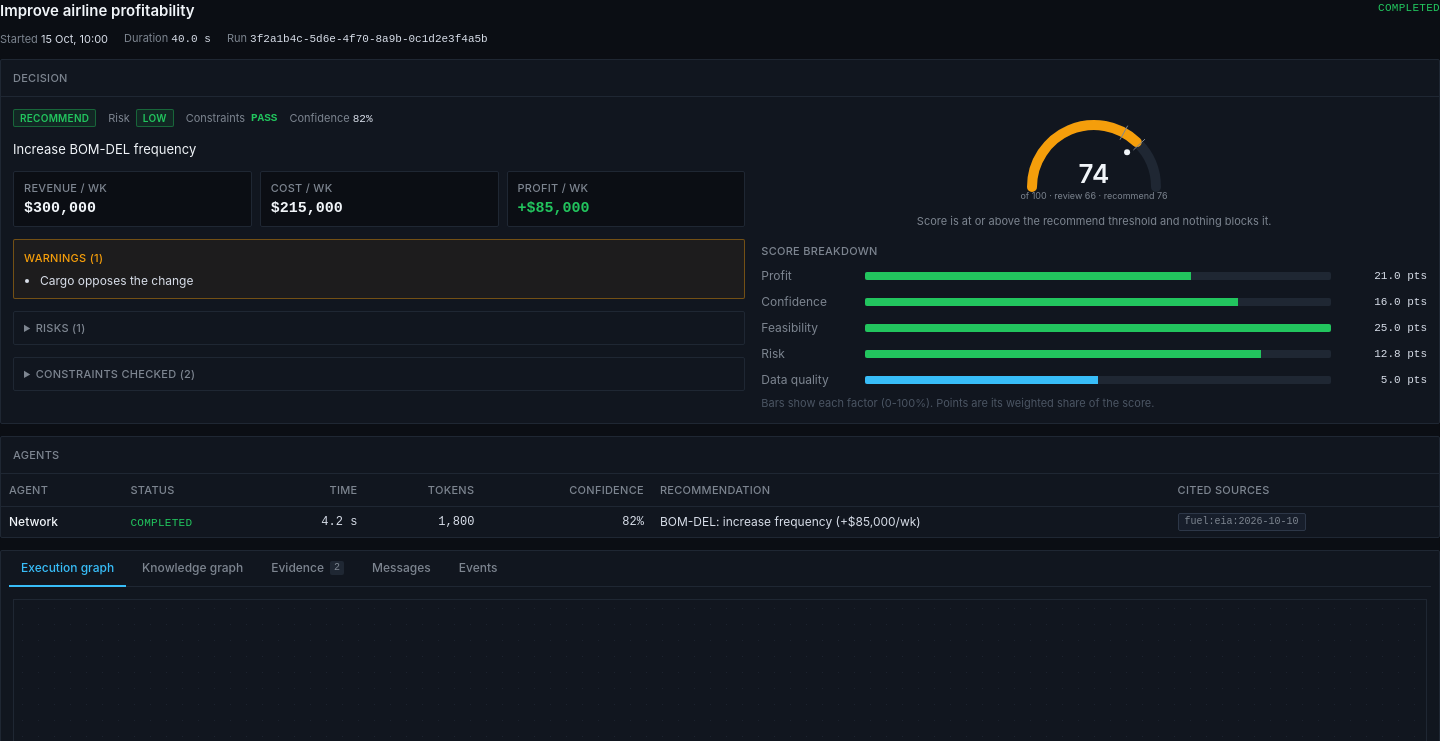
RunPage › shows evidence, messages and events in their tabs
The width and height of the screenshot is (1440, 741).
Expected: the element with test id "decision-panel" is shown, 0,59 -> 1439,424
Step 1. Click the tab "Evidence 2" → (308, 569), box 259,551 -> 356,587
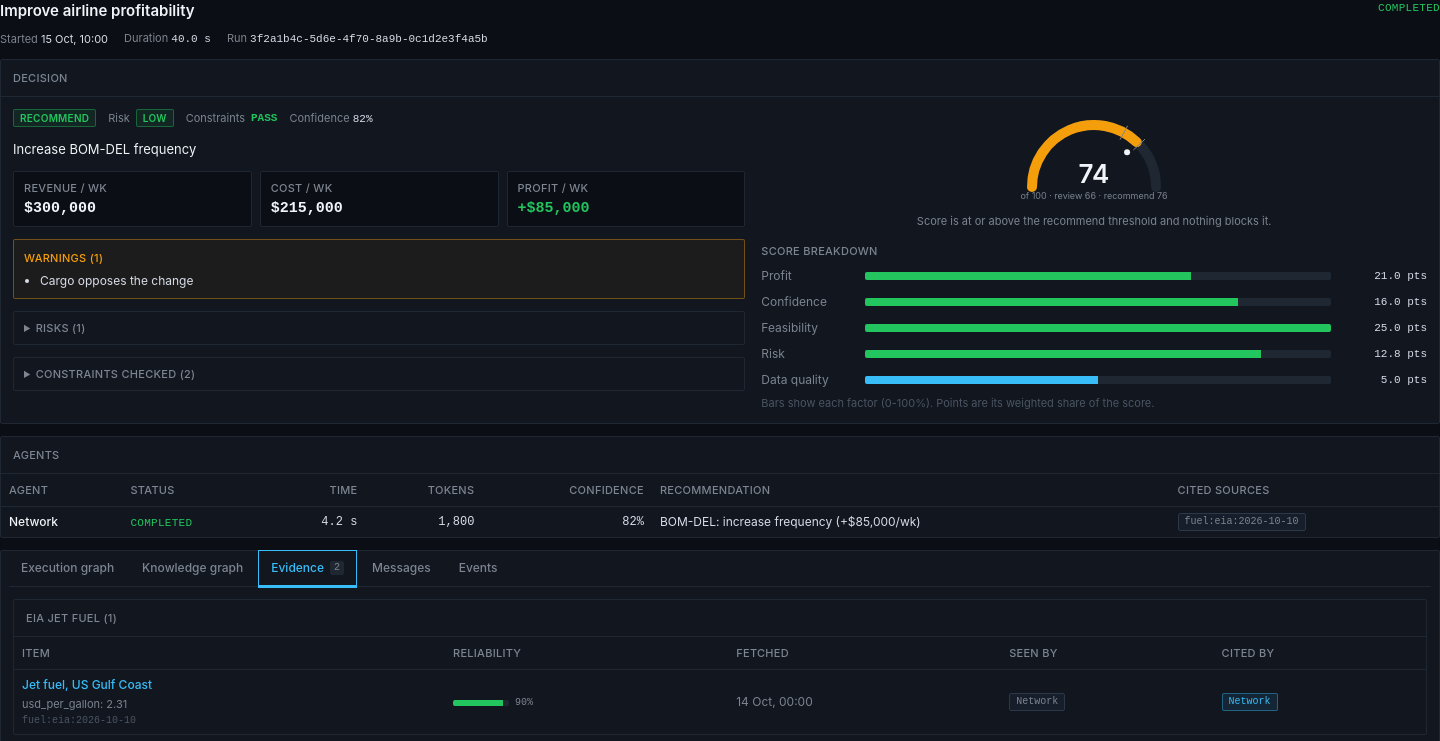
Expected: the element with test id "evidence-group-eia_jet_fuel" is shown, 13,599 -> 1427,735
Step 2. Click the tab "Messages" → (401, 569), box 360,551 -> 443,587
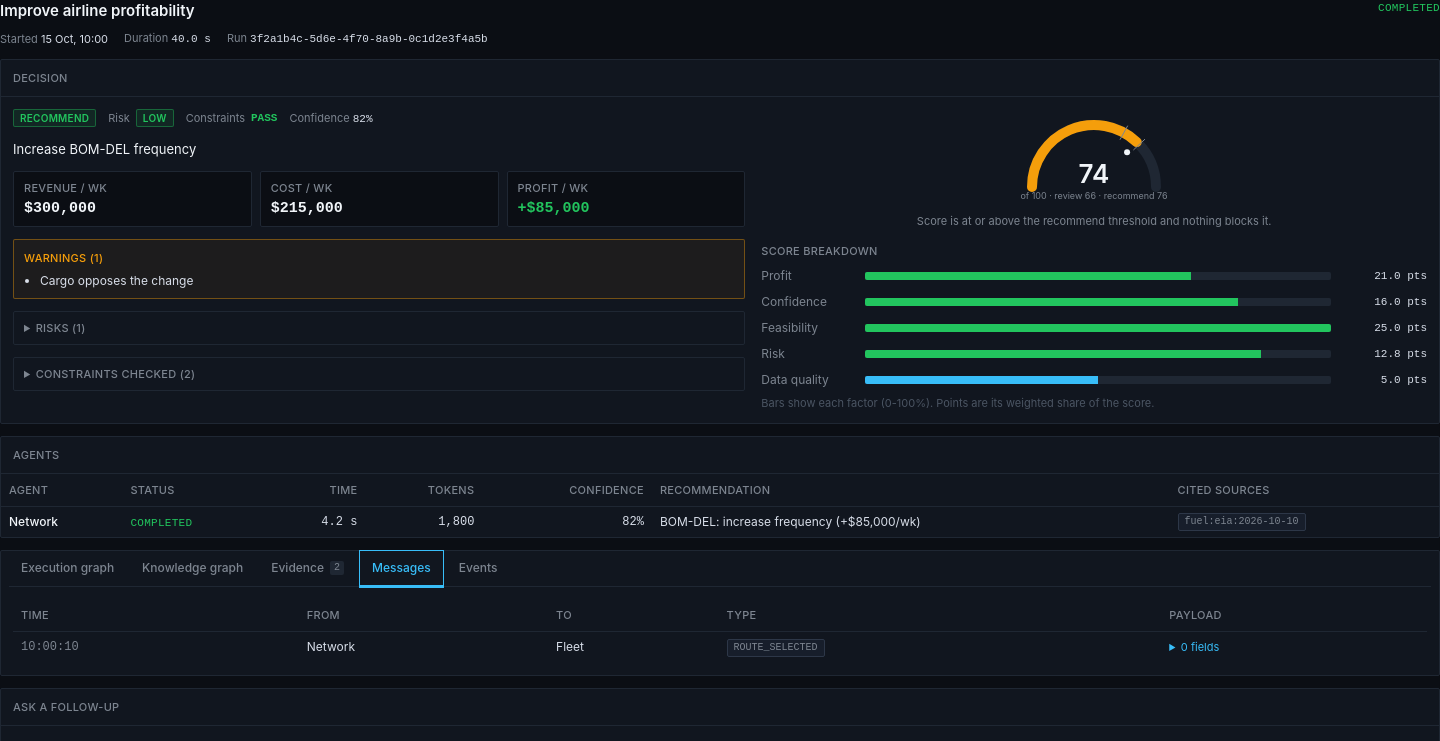
Expected: the element with test id "messages-tab" shows "ROUTE_SELECTED", 734,642 -> 818,653
Step 3. Click the tab "Events" → (478, 569), box 447,551 -> 509,587
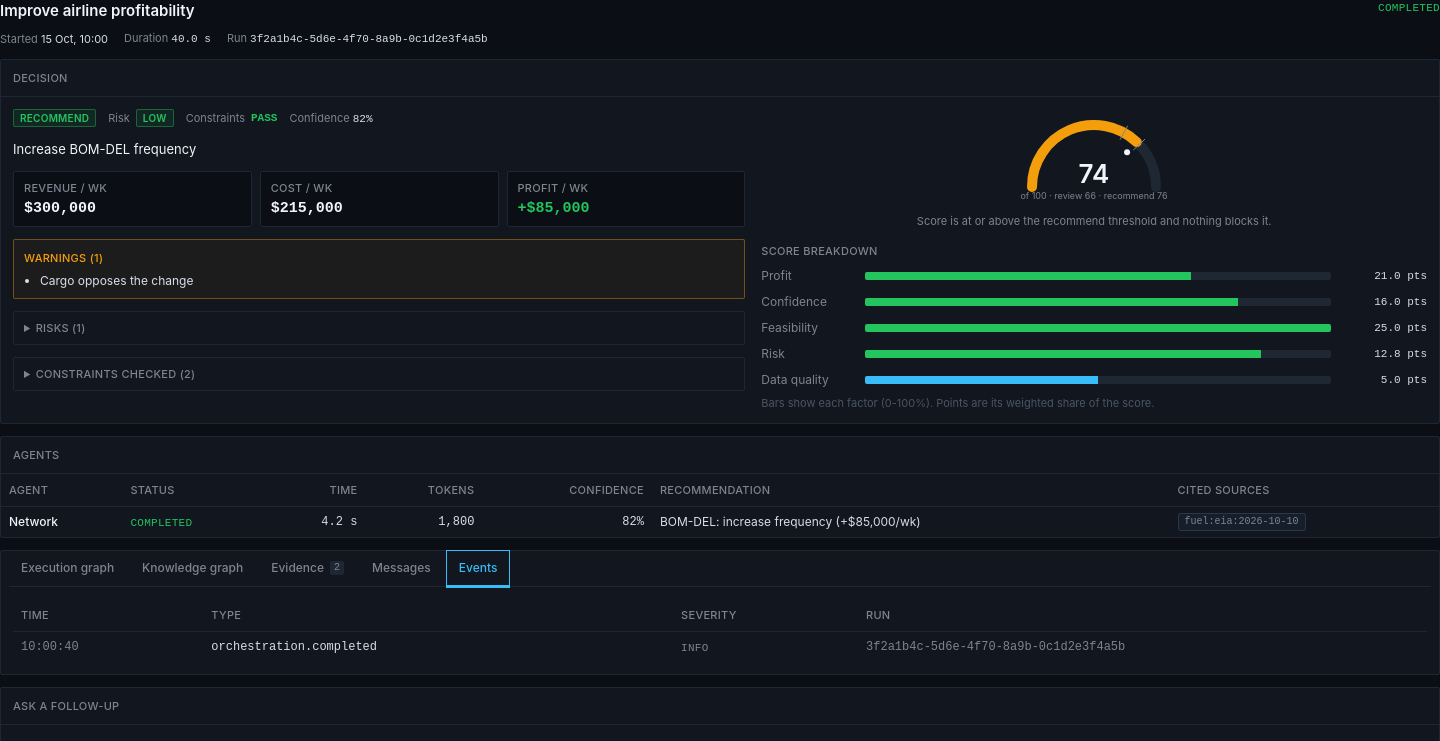
Expected: the text "orchestration.completed" is shown, 203,632 -> 673,662
Step 4. Click the tab "Knowledge graph" → (193, 569), box 130,551 -> 255,587
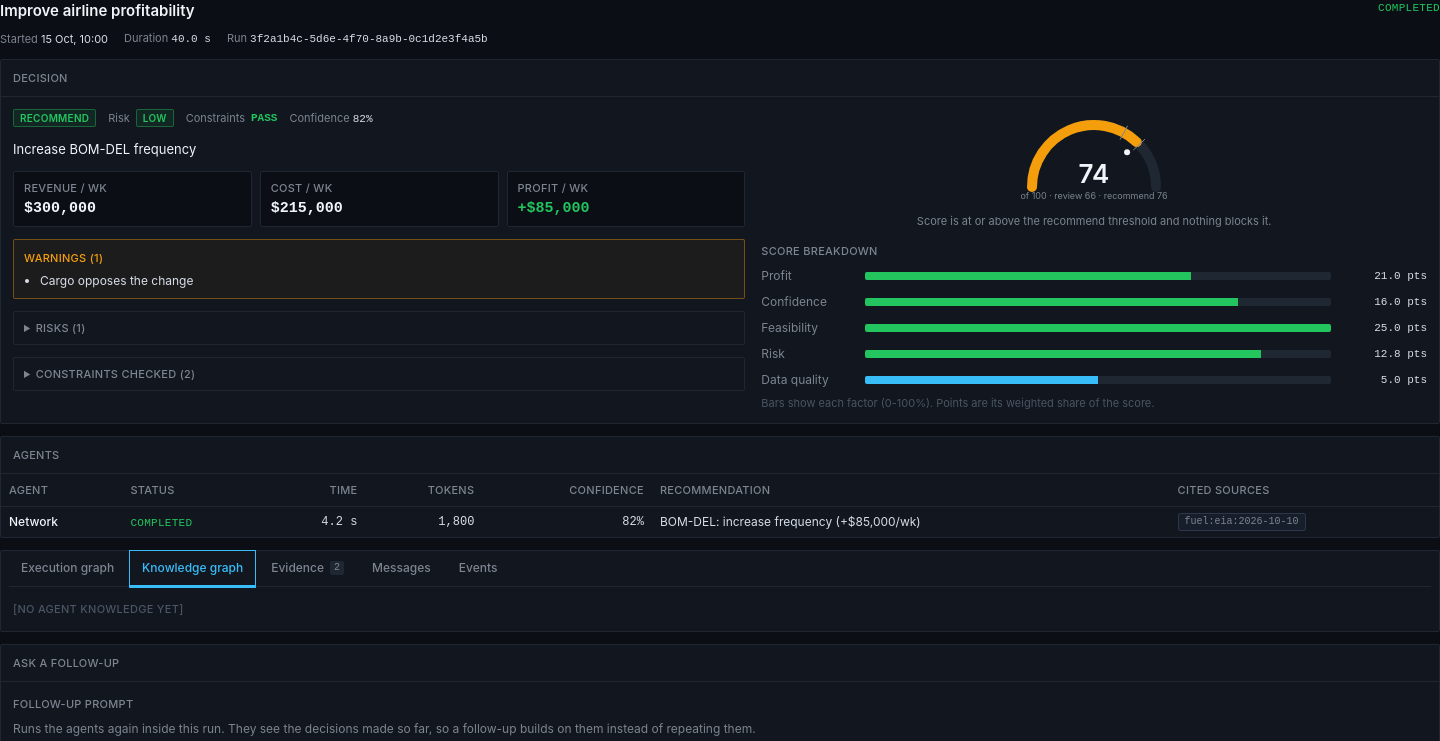
Expected: the text "[NO AGENT KNOWLEDGE YET]" is shown, 13,602 -> 184,616
